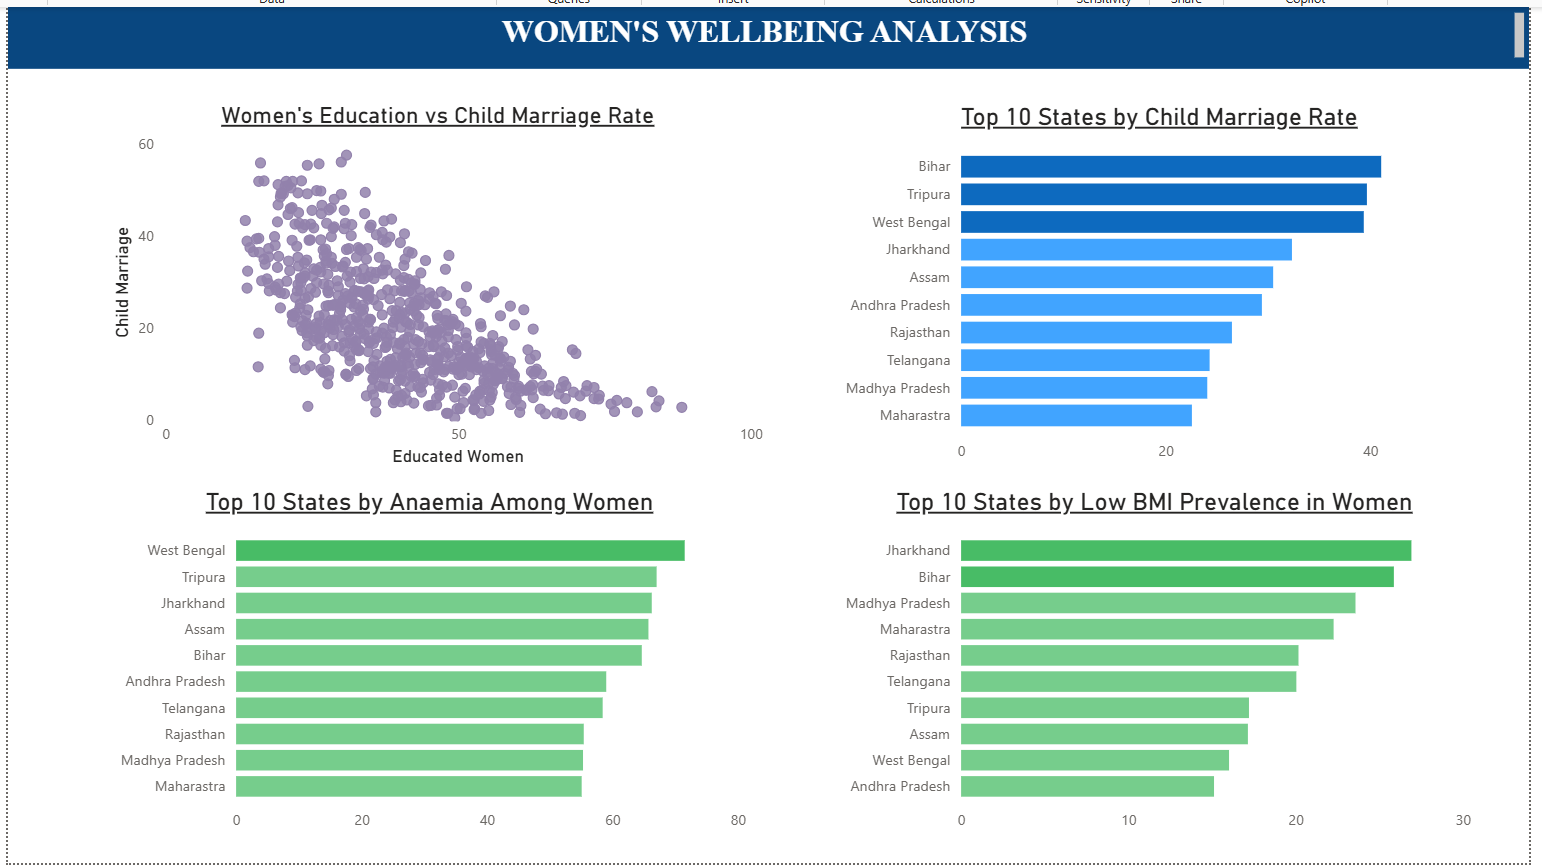

This screenshot's page, from the dashboard's own definition file:
{"tool":"powerbi","page":{"name":"Women's Wellbeing","canvas":[1280,720],"ordinal":1},"visuals":[{"type":"textbox","box":[0,0,1280.2,52.3],"z":0},{"type":"scatterChart","title":"Women''s Education vs Child Marriage Rate","fields":{"X":["cleaned_data.Women_Education"],"Y":["cleaned_data.Child_Marriage"]},"box":[82.6,80.2,557,311.6],"z":1},{"type":"barChart","title":"Top 10 States by Child Marriage Rate","fields":{"Category":["cleaned_data.State/UT"],"Y":["Avg(cleaned_data.Child_Marriage)"]},"box":[693,80.2,551.2,311.6],"z":3},{"type":"barChart","title":"Top 10 States by Low BMI Prevalence in Women","fields":{"Category":["cleaned_data.State/UT"],"Y":["Avg(cleaned_data.Women_Low_BMI)"]},"box":[693,403.5,543,298.8],"z":4},{"type":"barChart","title":"Top 10 States by Anaemia Among Women","fields":{"Category":["cleaned_data.State/UT"],"Y":["Avg(cleaned_data.Anaemic_Women)"]},"box":[82.6,403.5,543,298.8],"z":5}]}

Visuals, with their boxes on the page's 1280x720 design canvas (x1, y1, x2, y2). These are canvas units, not pixel positions in the 1542x867 screenshot, which may show the page scaled, cropped or inside an application window:
textbox: 0,0,1280,52
"Women''s Education vs Child Marriage Rate" scatterChart: 83,80,640,392
"Top 10 States by Child Marriage Rate" barChart: 693,80,1244,392
"Top 10 States by Low BMI Prevalence in Women" barChart: 693,404,1236,702
"Top 10 States by Anaemia Among Women" barChart: 83,404,626,702
